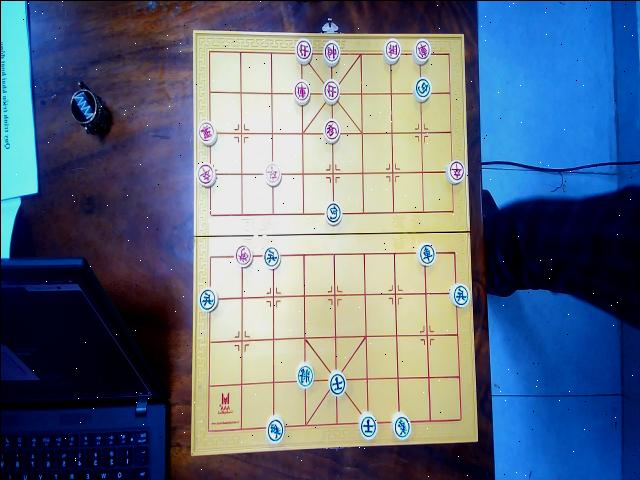piece: (264, 414, 284, 444), (357, 412, 377, 440), (390, 411, 410, 439), (196, 118, 216, 146), (197, 286, 217, 312), (448, 282, 468, 308), (444, 158, 464, 184), (415, 240, 435, 266), (294, 36, 312, 64), (381, 38, 400, 64), (196, 162, 215, 188), (411, 38, 430, 64), (412, 76, 431, 102), (321, 77, 339, 104), (294, 362, 312, 389), (322, 40, 340, 66), (322, 116, 340, 142), (292, 80, 310, 106), (327, 370, 345, 396), (262, 244, 280, 270), (324, 200, 342, 224), (234, 243, 251, 266), (264, 162, 280, 186)
